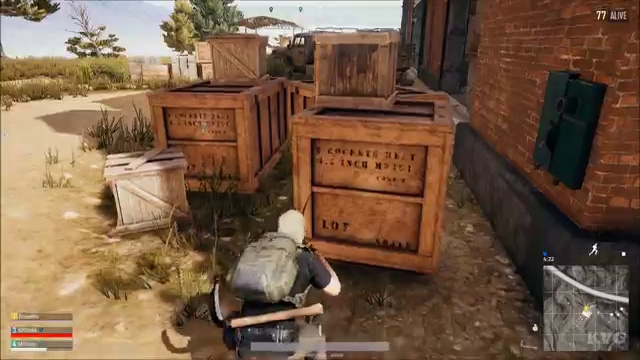Player: (198, 198, 355, 324)
